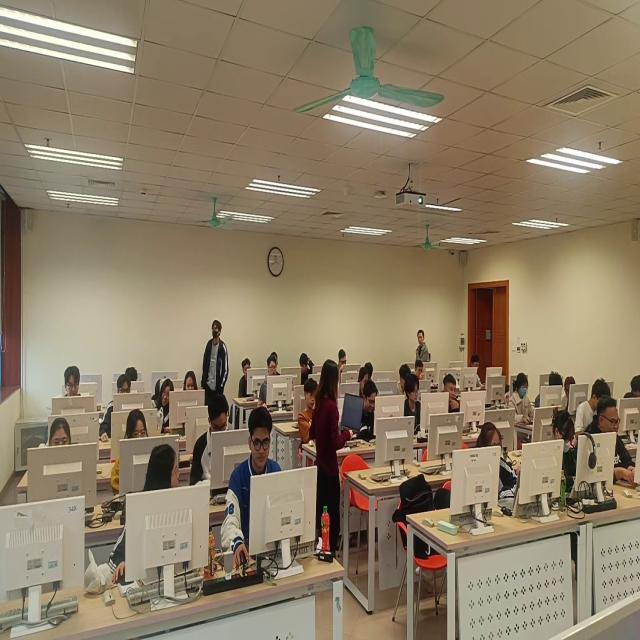raise_head: (298, 381, 323, 440), (179, 375, 204, 401)
stand: (317, 364, 347, 555), (202, 321, 230, 414), (415, 327, 433, 392)
using_computer: (221, 411, 299, 561), (536, 409, 590, 506), (587, 402, 640, 494), (195, 399, 239, 495), (479, 428, 528, 510), (114, 414, 155, 497), (46, 422, 85, 497), (100, 375, 133, 445), (509, 372, 545, 428), (402, 378, 433, 436), (260, 361, 291, 415), (154, 379, 180, 435), (360, 386, 386, 441), (58, 366, 88, 413), (445, 376, 470, 429), (238, 361, 263, 404), (470, 357, 494, 400), (417, 360, 441, 394), (336, 350, 352, 376)
